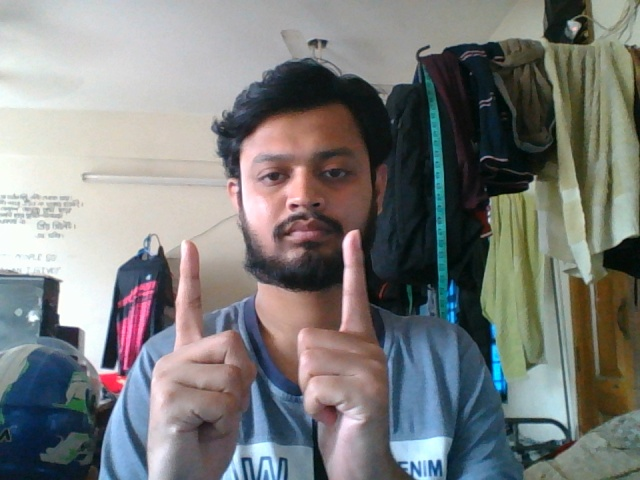ishara: (135, 237, 450, 480)
